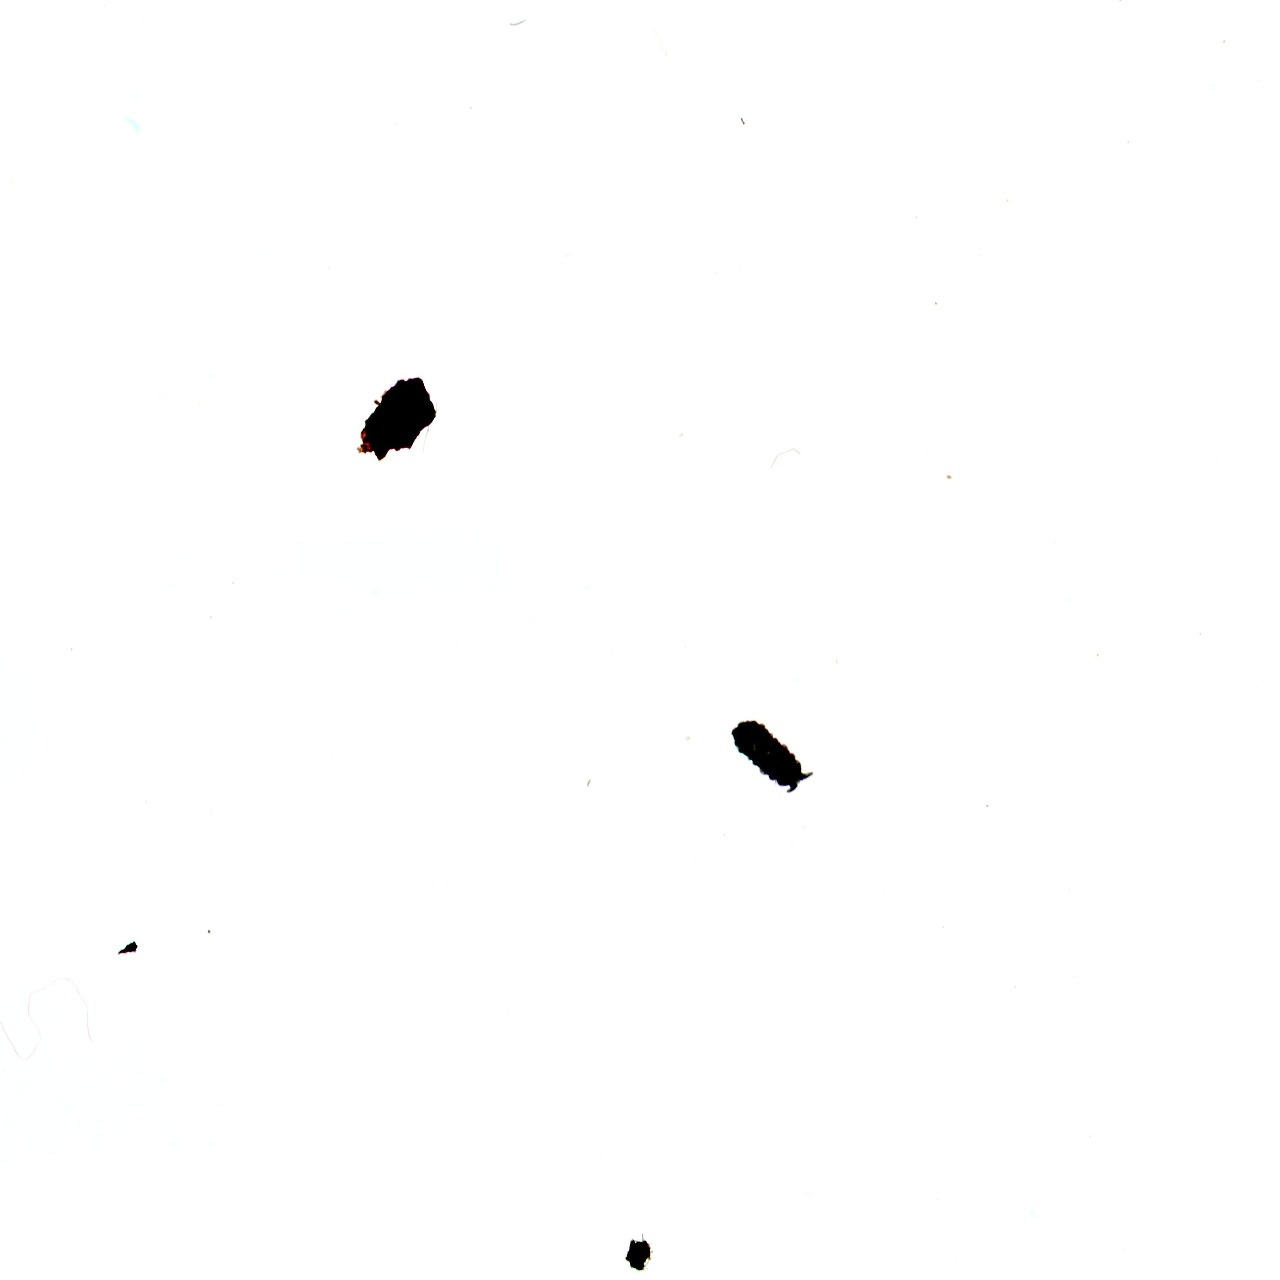arthropod: (720, 707, 819, 805)
